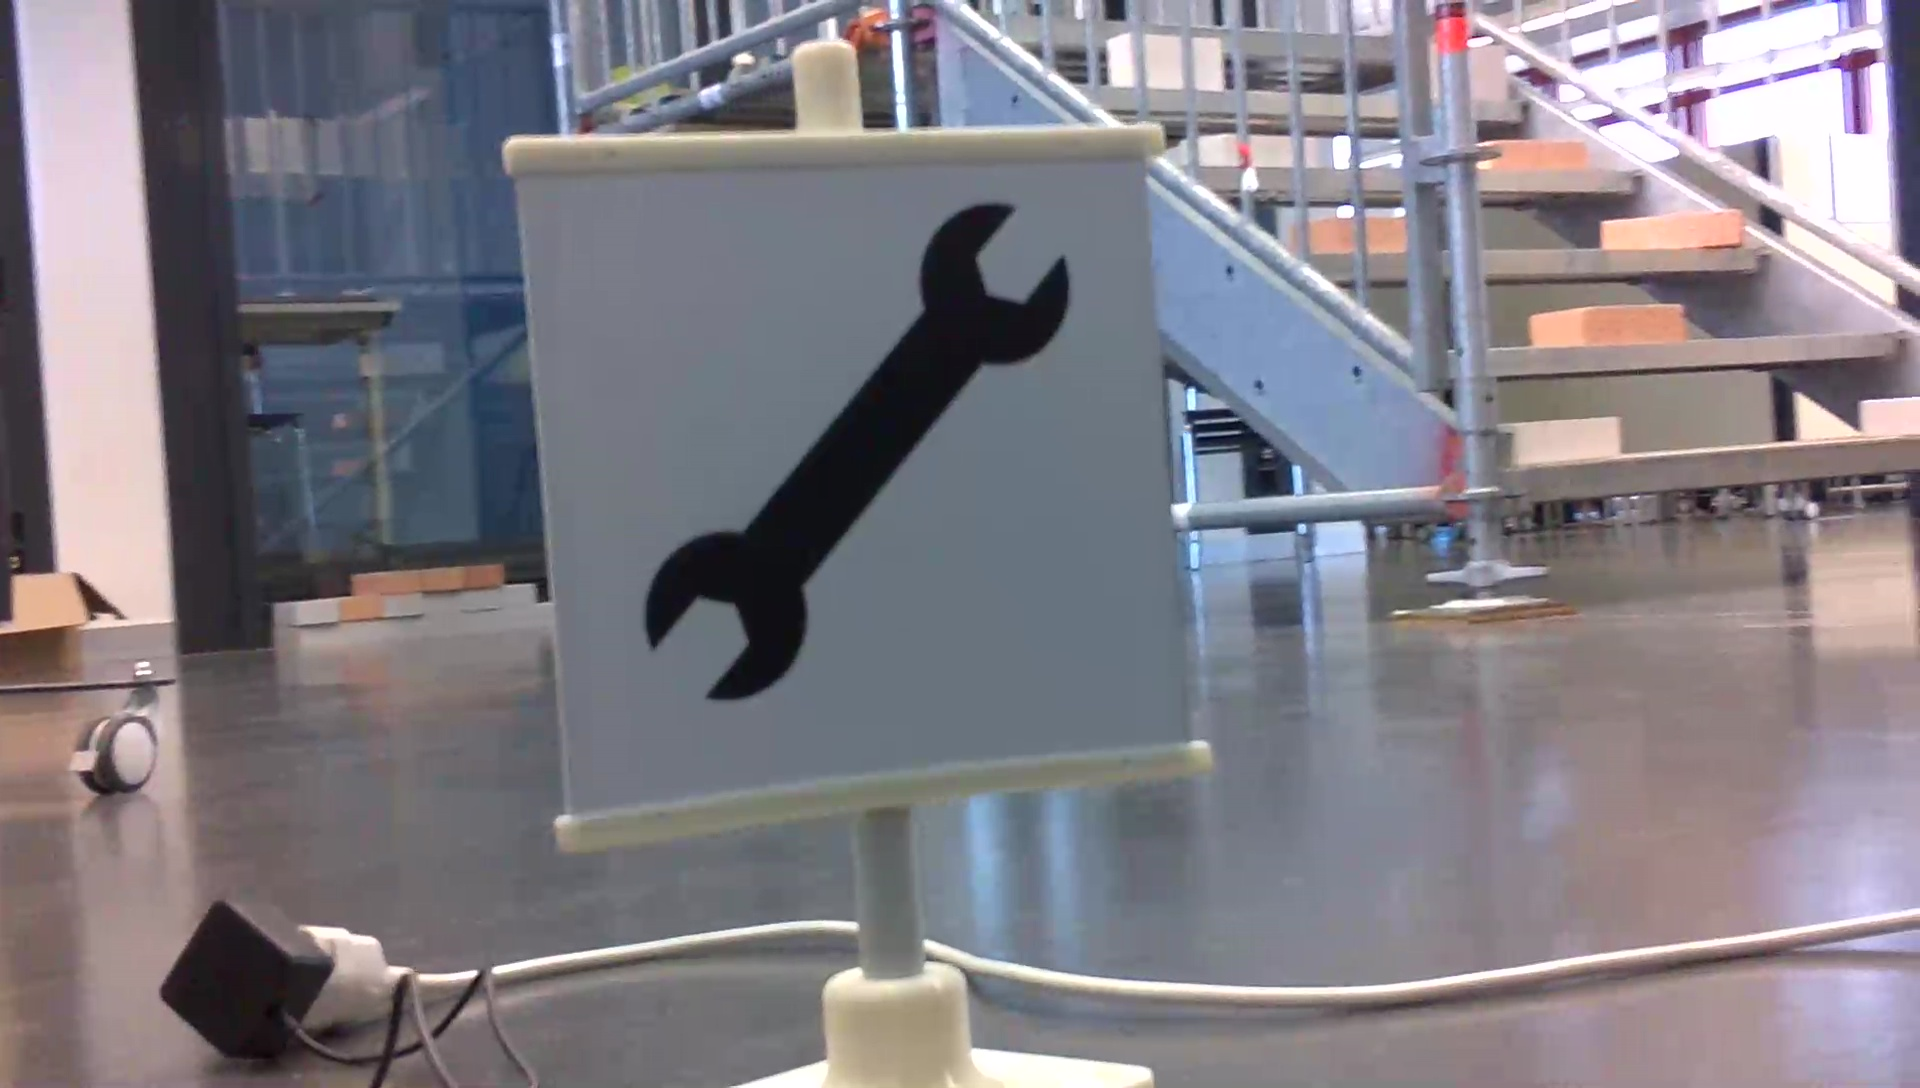brick: (1532, 305, 1683, 346), (1600, 210, 1745, 247), (1513, 421, 1615, 462), (1485, 142, 1586, 171), (1862, 396, 1920, 433), (1466, 45, 1505, 100)
edge: (1520, 435, 1915, 497), (1487, 328, 1911, 373), (1477, 243, 1767, 278)
wrench: (637, 187, 1083, 717)
